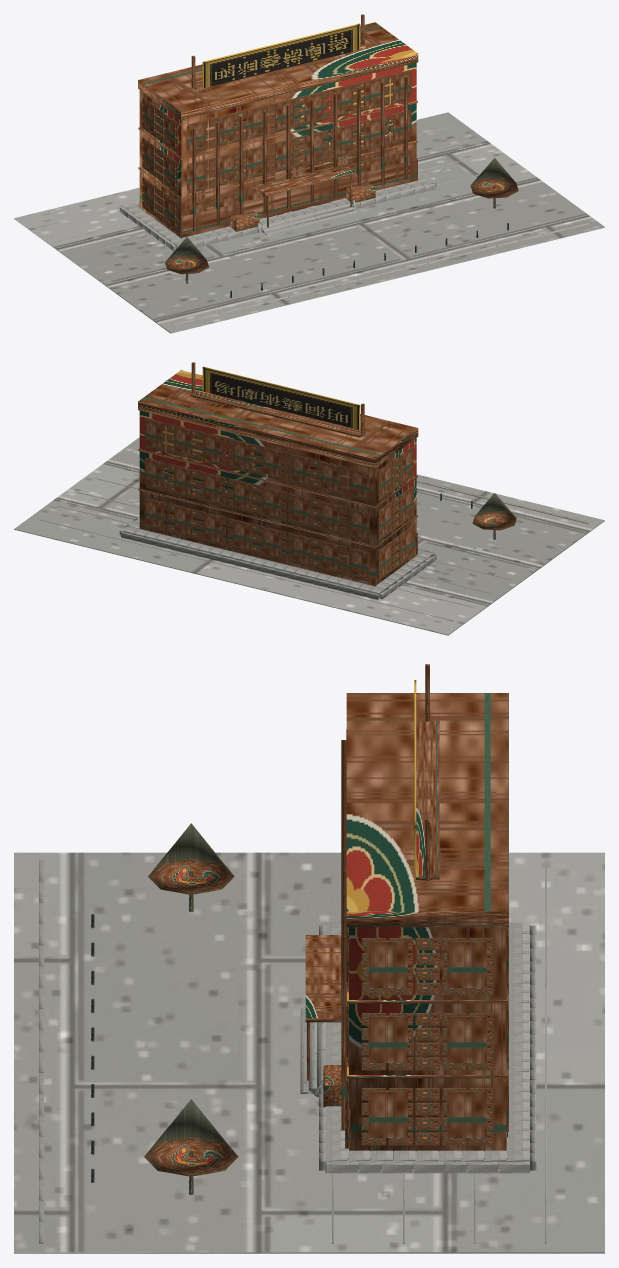
3 renders of one model, top to bottom at view 1: azimuth 30°, elevation 25°; view 2: azimuth 150°, elevation 25°; view 3: azimuth 270°, elevation 25°, orthographic. The views are drawn at different scales.
Parts seen in each view (by area): view 1: 11140_02_04519_012_06__forecourt_paving, 11140_02_04519_012_02__theater_facade_body_fins, 11140_02_04519_012_01__granite_plinth_forecourt, 11140_02_04519_012_04__rooftop_sign_board, 11140_02_04519_012_06__forecourt_trees, 11140_02_04519_012_04__rooftop_sign_yanggak_emboss; view 2: 11140_02_04519_012_02__theater_facade_body_fins, 11140_02_04519_012_06__forecourt_paving, 11140_02_04519_012_01__granite_plinth_forecourt, 11140_02_04519_012_04__rooftop_sign_board, 11140_02_04519_012_06__forecourt_trees, 11140_02_04519_012_04__rooftop_sign_gold_frame; view 3: 11140_02_04519_012_06__forecourt_paving, 11140_02_04519_012_02__theater_facade_body_fins, 11140_02_04519_012_01__granite_plinth_forecourt, 11140_02_04519_012_06__forecourt_trees.
Boxes of the visible parts, box(x1,y1,x2,y2) form: 11140_02_04519_012_06__forecourt_paving: box(14, 112, 604, 333); 11140_02_04519_012_02__theater_facade_body_fins: box(138, 14, 418, 238); 11140_02_04519_012_01__granite_plinth_forecourt: box(119, 169, 436, 251); 11140_02_04519_012_04__rooftop_sign_board: box(204, 25, 358, 87); 11140_02_04519_012_06__forecourt_trees: box(165, 158, 518, 283); 11140_02_04519_012_04__rooftop_sign_yanggak_emboss: box(223, 32, 343, 79); 11140_02_04519_012_02__theater_facade_body_fins: box(138, 362, 418, 586); 11140_02_04519_012_06__forecourt_paving: box(14, 437, 604, 635); 11140_02_04519_012_01__granite_plinth_forecourt: box(119, 516, 436, 599); 11140_02_04519_012_04__rooftop_sign_board: box(203, 368, 358, 429); 11140_02_04519_012_06__forecourt_trees: box(472, 493, 516, 539); 11140_02_04519_012_04__rooftop_sign_gold_frame: box(202, 366, 360, 429); 11140_02_04519_012_06__forecourt_paving: box(14, 852, 604, 1253); 11140_02_04519_012_02__theater_facade_body_fins: box(305, 664, 508, 1151); 11140_02_04519_012_01__granite_plinth_forecourt: box(300, 922, 536, 1173); 11140_02_04519_012_06__forecourt_trees: box(144, 823, 238, 1194).
Bounding box in the file's own units: 48 × 17.4 × 30.
7 materials, 7 textured.
